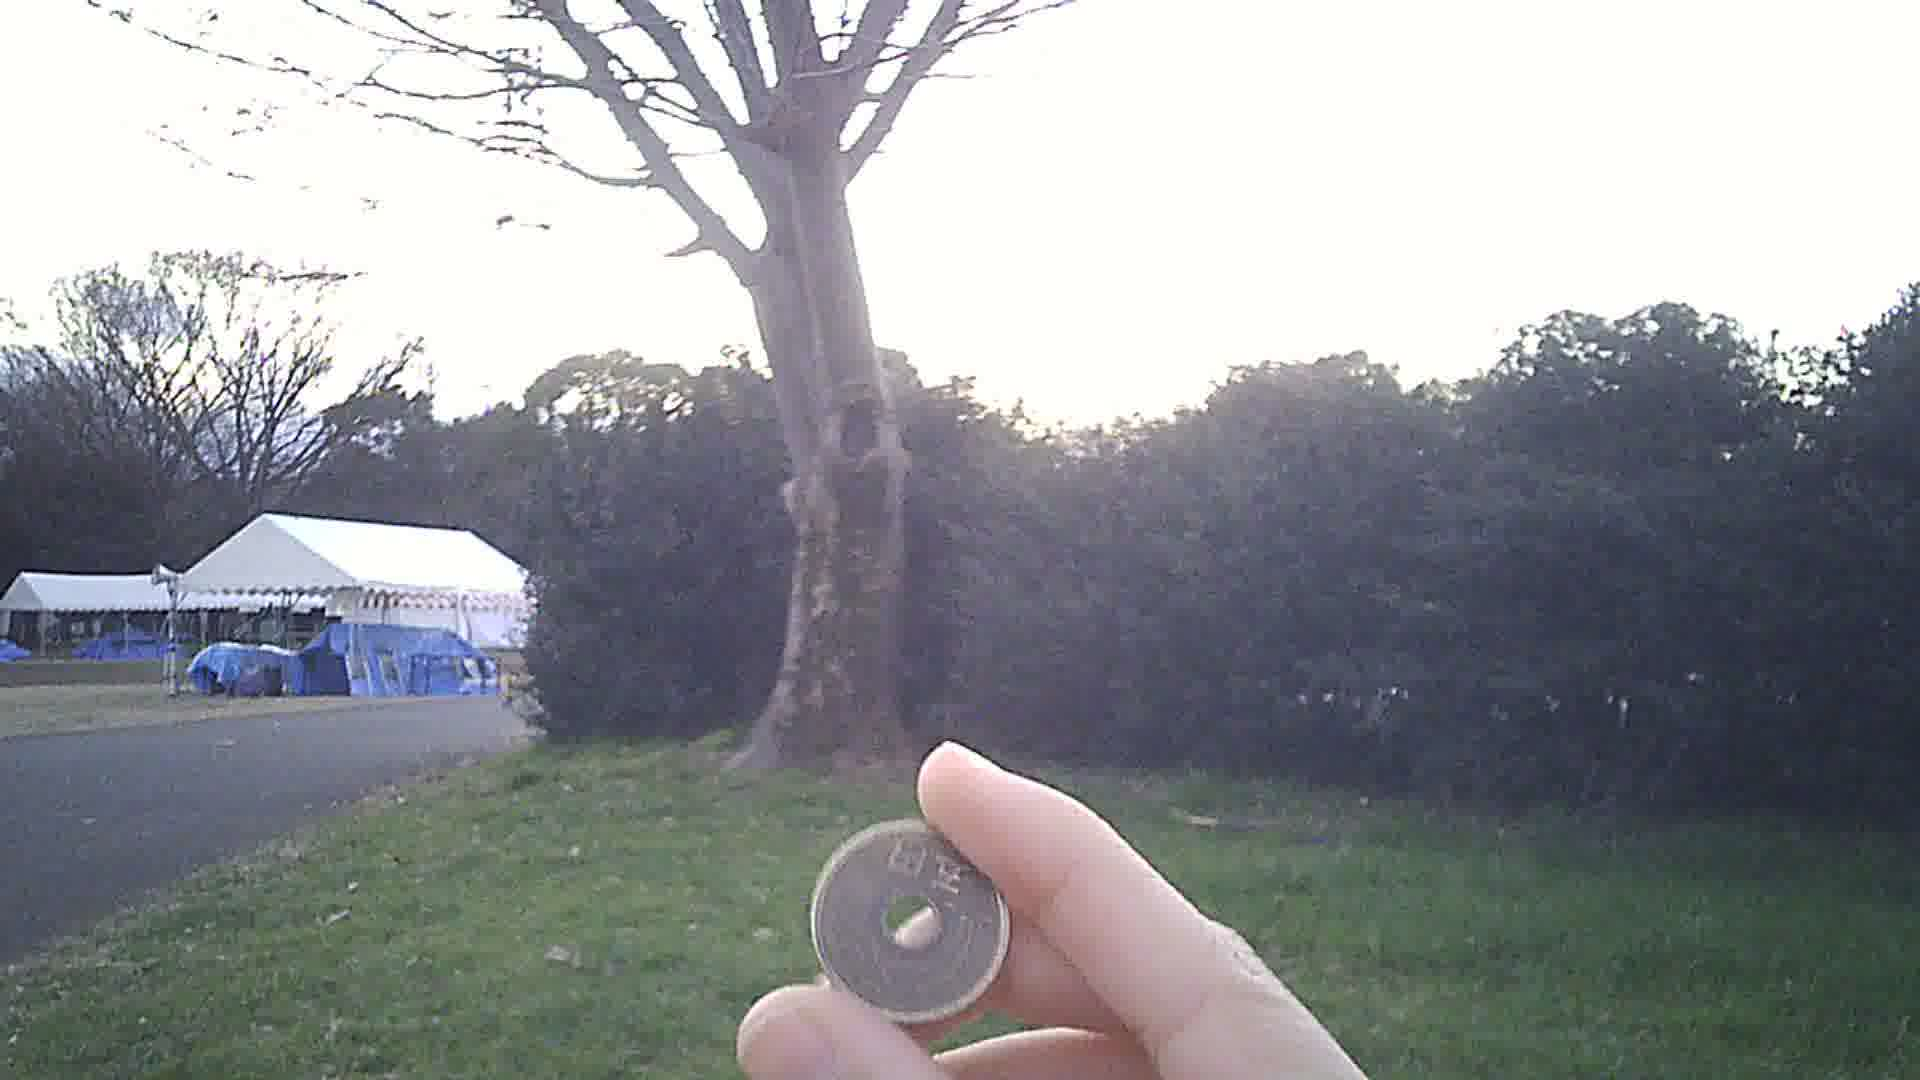5 Yen: (812, 824, 1029, 1013)
